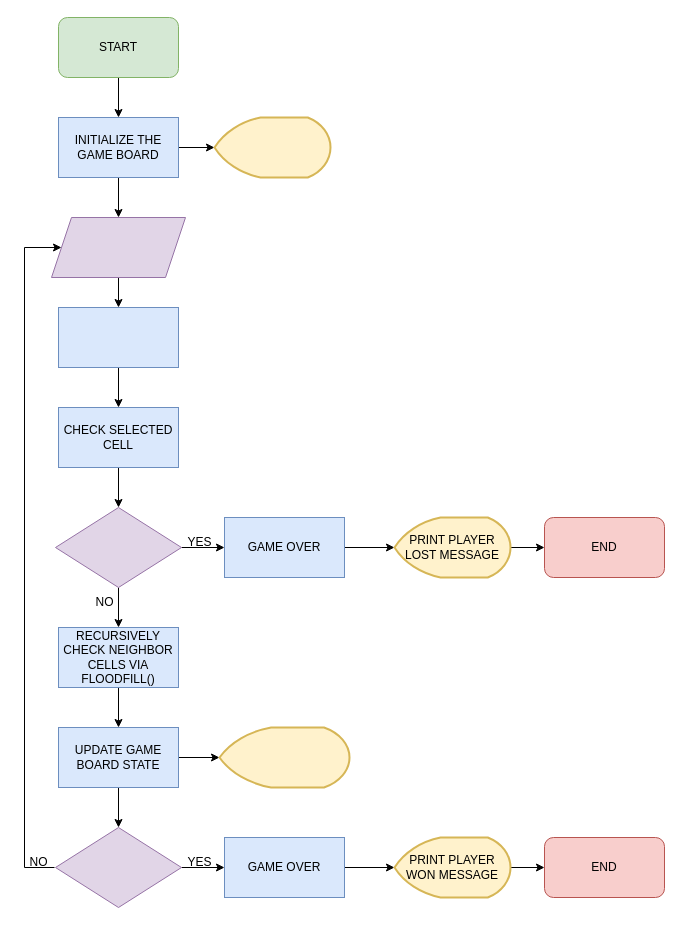
Image size: 682x925. Some labels were removed from this diagram. The centre of each missing label's shape, as x and y in pixels:
"IS SELECTED CELL LIVE?" belongs at [118,547].
"PLAYER WIN?" belongs at [118,867].
"PRINT INITIAL STATE OF GAME BOARD" belongs at [272,147].
"PRINT UPDATED STATE OF GAME BOARD" belongs at [284,757].
"USER INPUT ROW NUM & COL NUM" belongs at [118,247].
"VALIDATE USER INPUT" belongs at [118,337].
